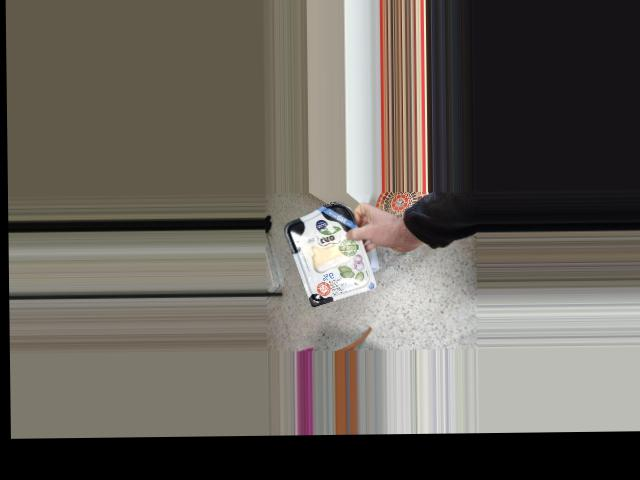cheese: (292, 209, 361, 300)
